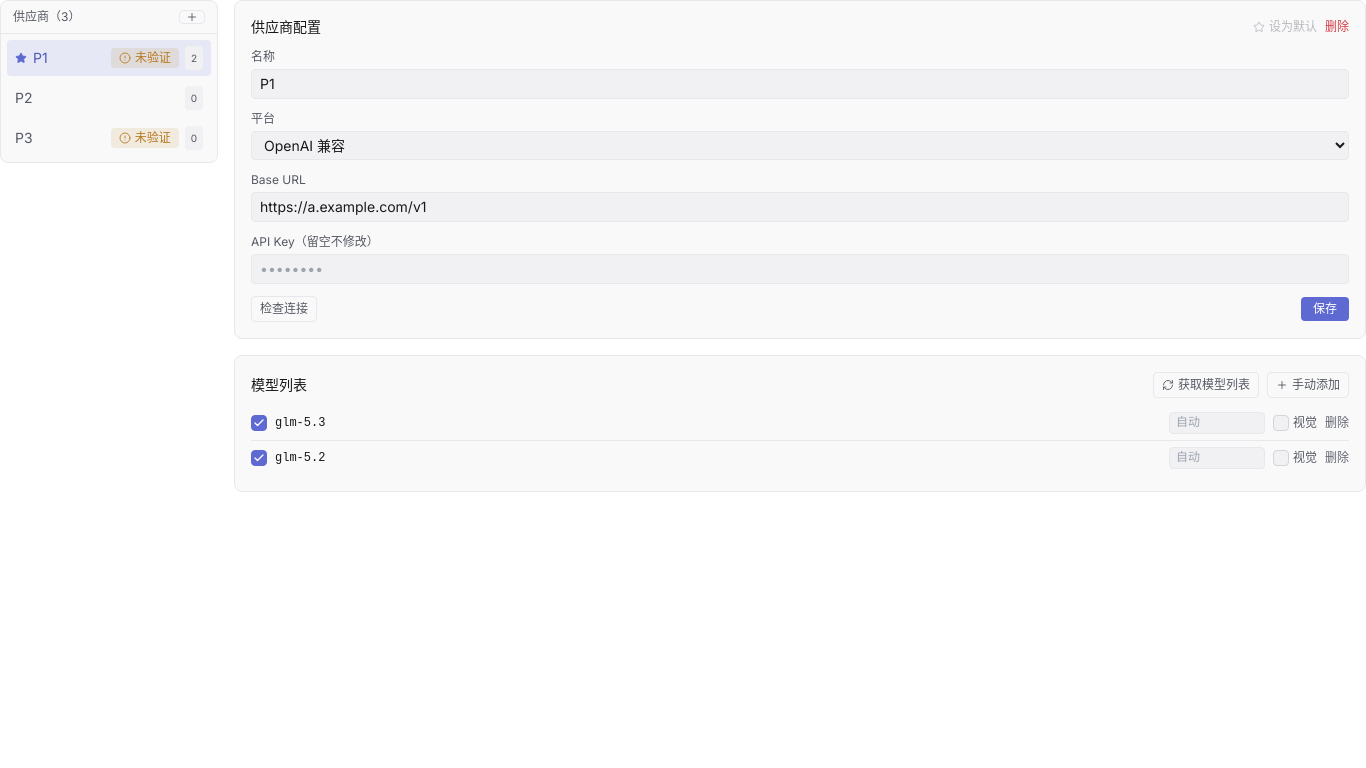
Test: ProviderSettings 两列布局 › 删除供应商：ConfirmDialog 点取消 → 不调 delete 且对话框关闭
Expected: the button "P1 未验证 2" is shown, x1=7 y1=40 x2=211 y2=76
Expected: the field labelled "名称" is shown, x1=251 y1=69 x2=1349 y2=99
Click the button "删除" in the row of "供应商配置": x=1337, y=27 x1=1325 y1=19 x2=1349 y2=35
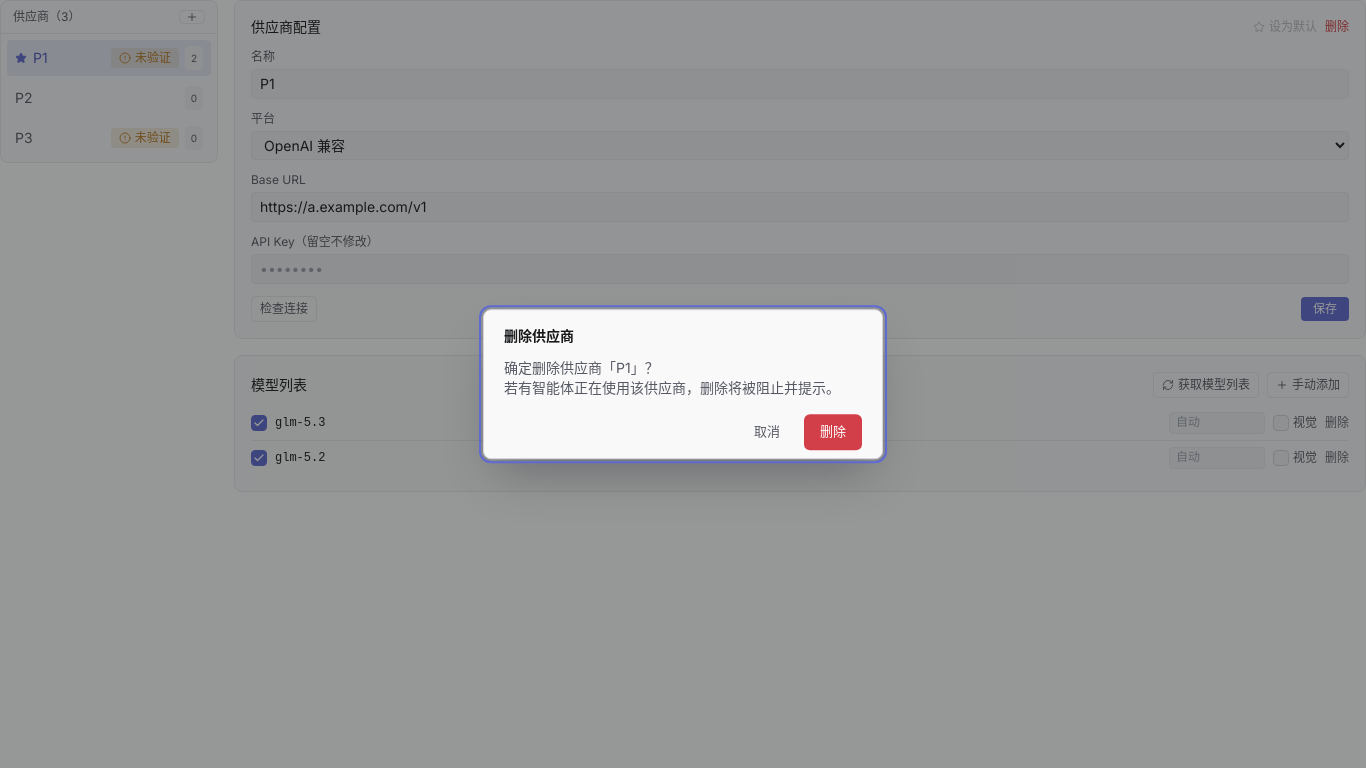
Click the button "取消": x=767, y=432 x1=738 y1=414 x2=796 y2=450
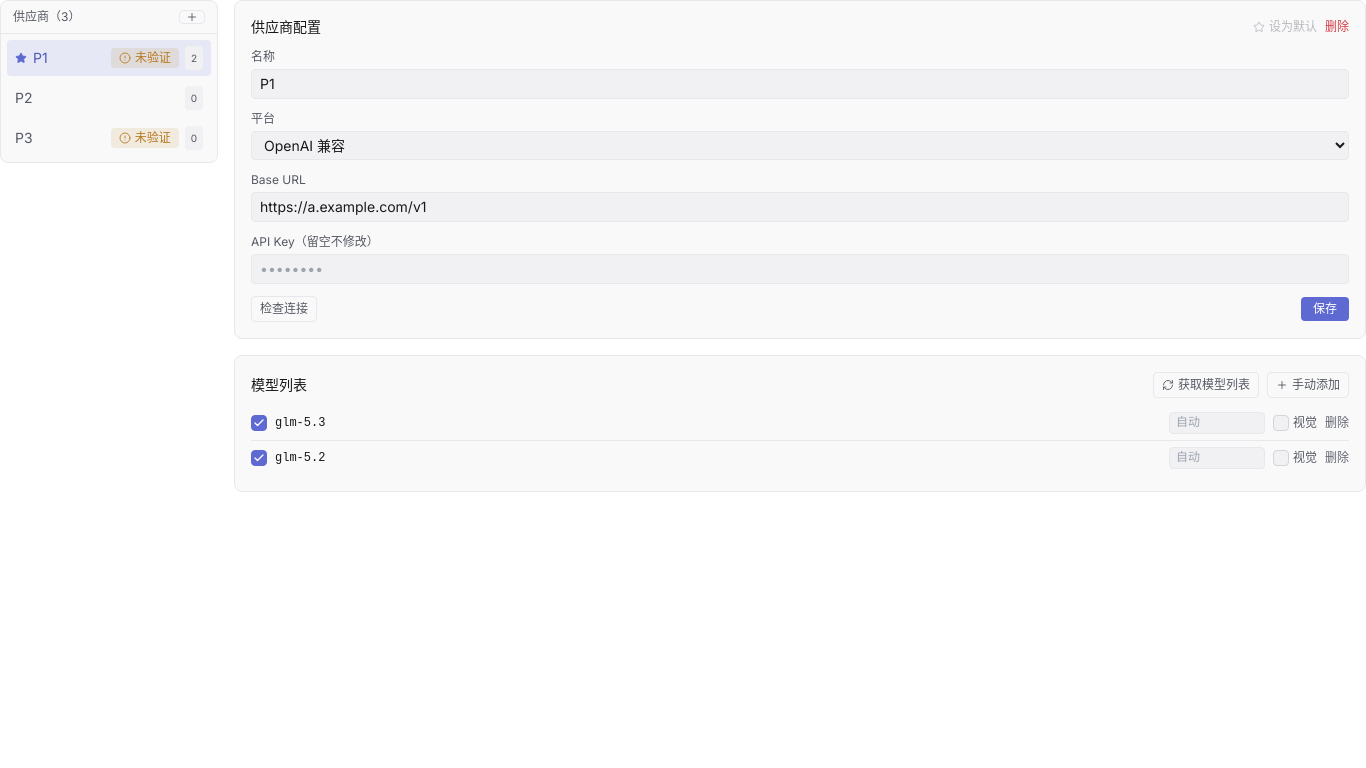
Expected: the heading "删除供应商" is gone
